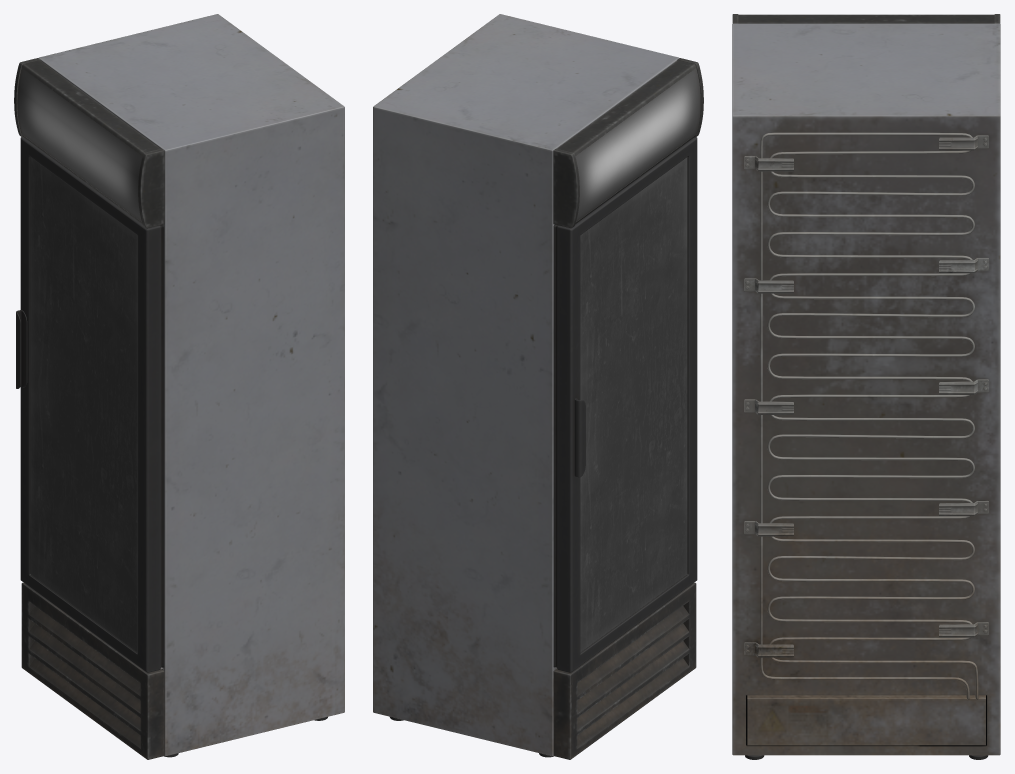
File: SM_Fridge_01.fbx
The picture shows the model from 3 angles, left to right: view 1: azimuth 30°, elevation 25°; view 2: azimuth 150°, elevation 25°; view 3: azimuth 270°, elevation 25°; orthographic projection. The views are drawn at different scales.
Visible parts, largest first — view 1: SM_Fridge_01_LOD0; view 2: SM_Fridge_01_LOD0; view 3: SM_Fridge_01_LOD0.
Part boxes in pixels (x1,y1,x2,y2): SM_Fridge_01_LOD0: (14, 14, 344, 759); SM_Fridge_01_LOD0: (373, 14, 703, 759); SM_Fridge_01_LOD0: (732, 14, 1000, 759).
Size of the model in its own units: 72.01 by 75 by 200.
Materials: 2 (2 with a texture image).
